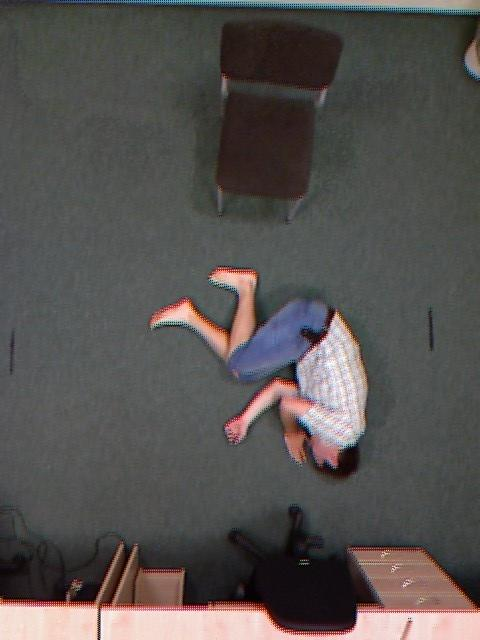fall: (175, 215, 348, 528)
